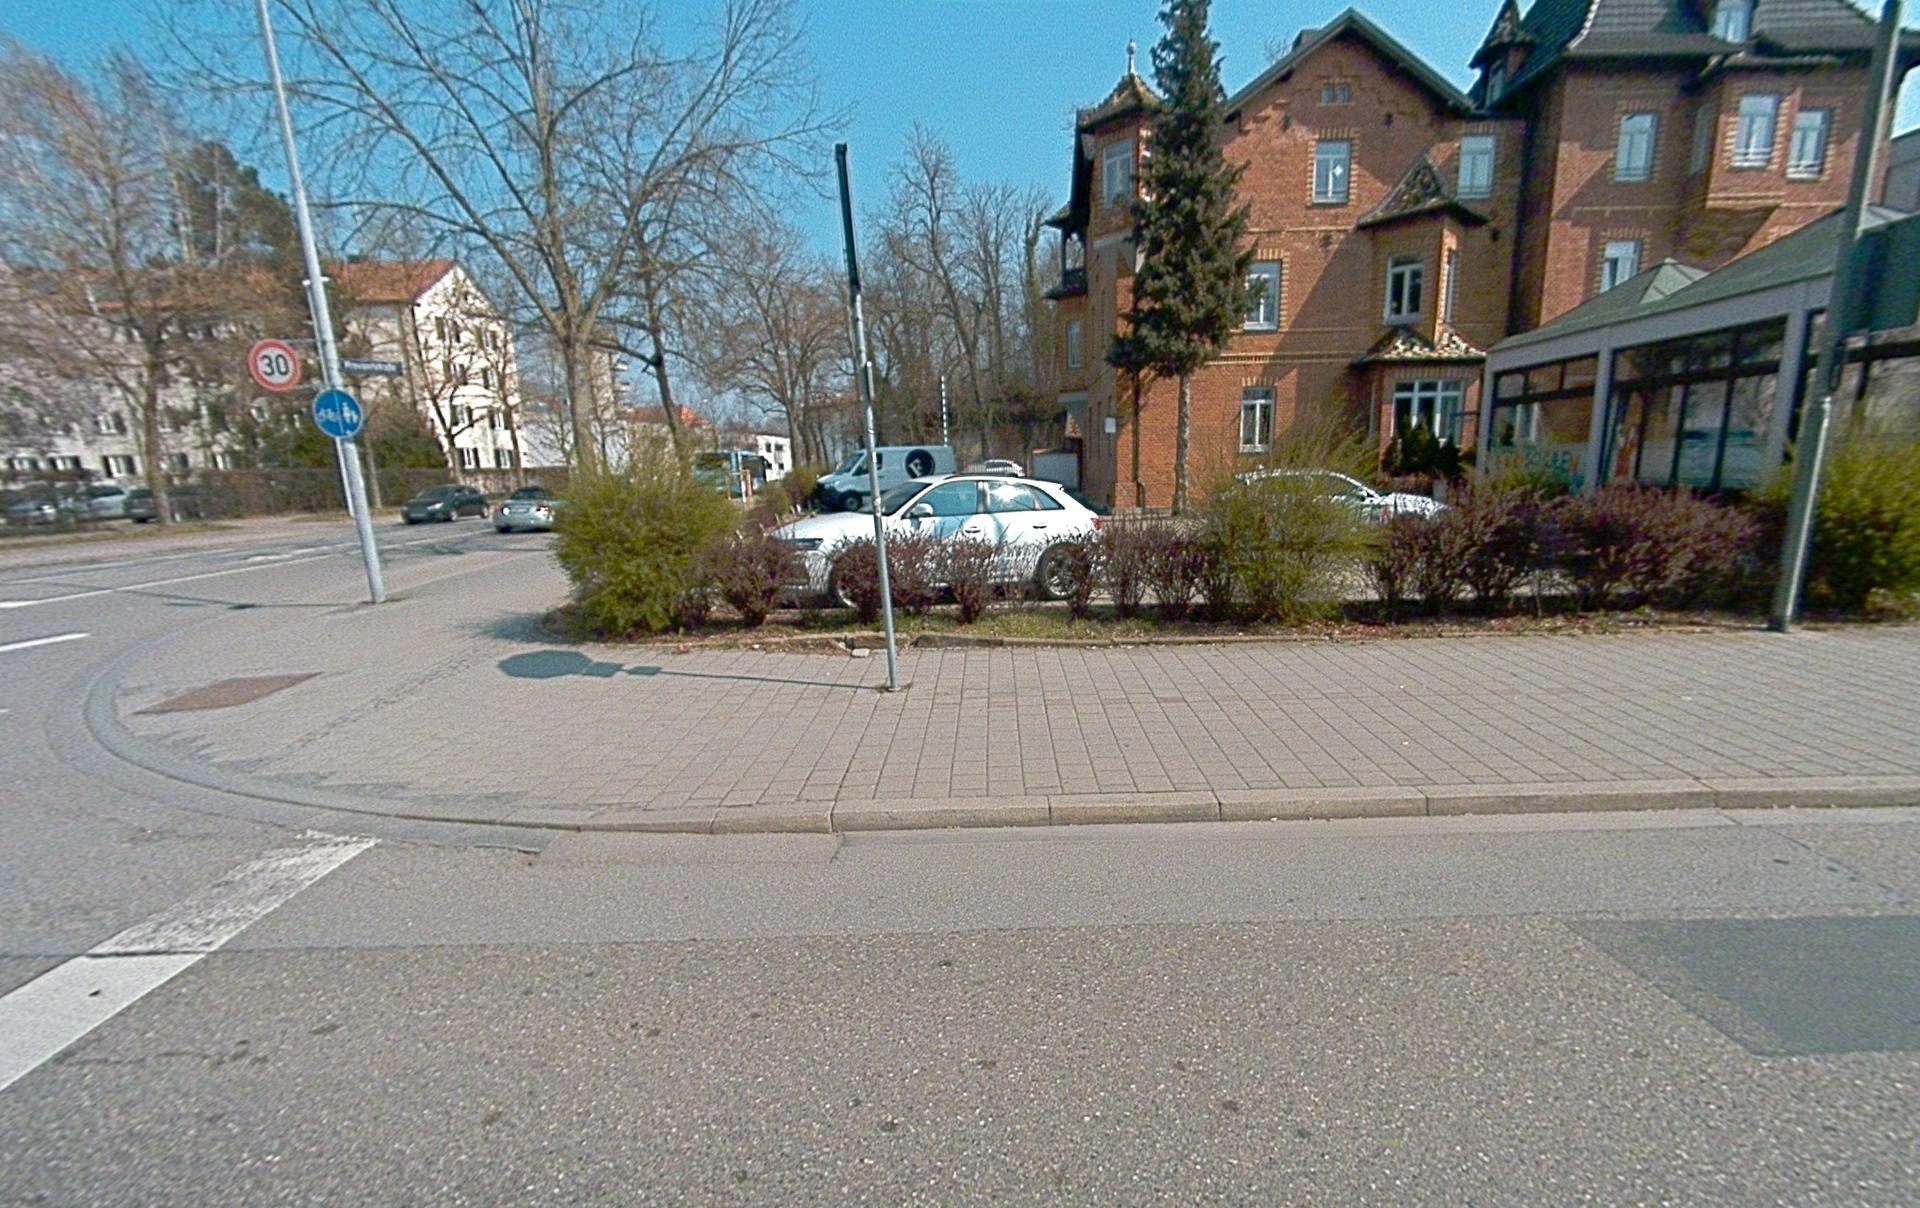car: (1235, 469, 1446, 520), (401, 484, 487, 523), (493, 486, 558, 532)
